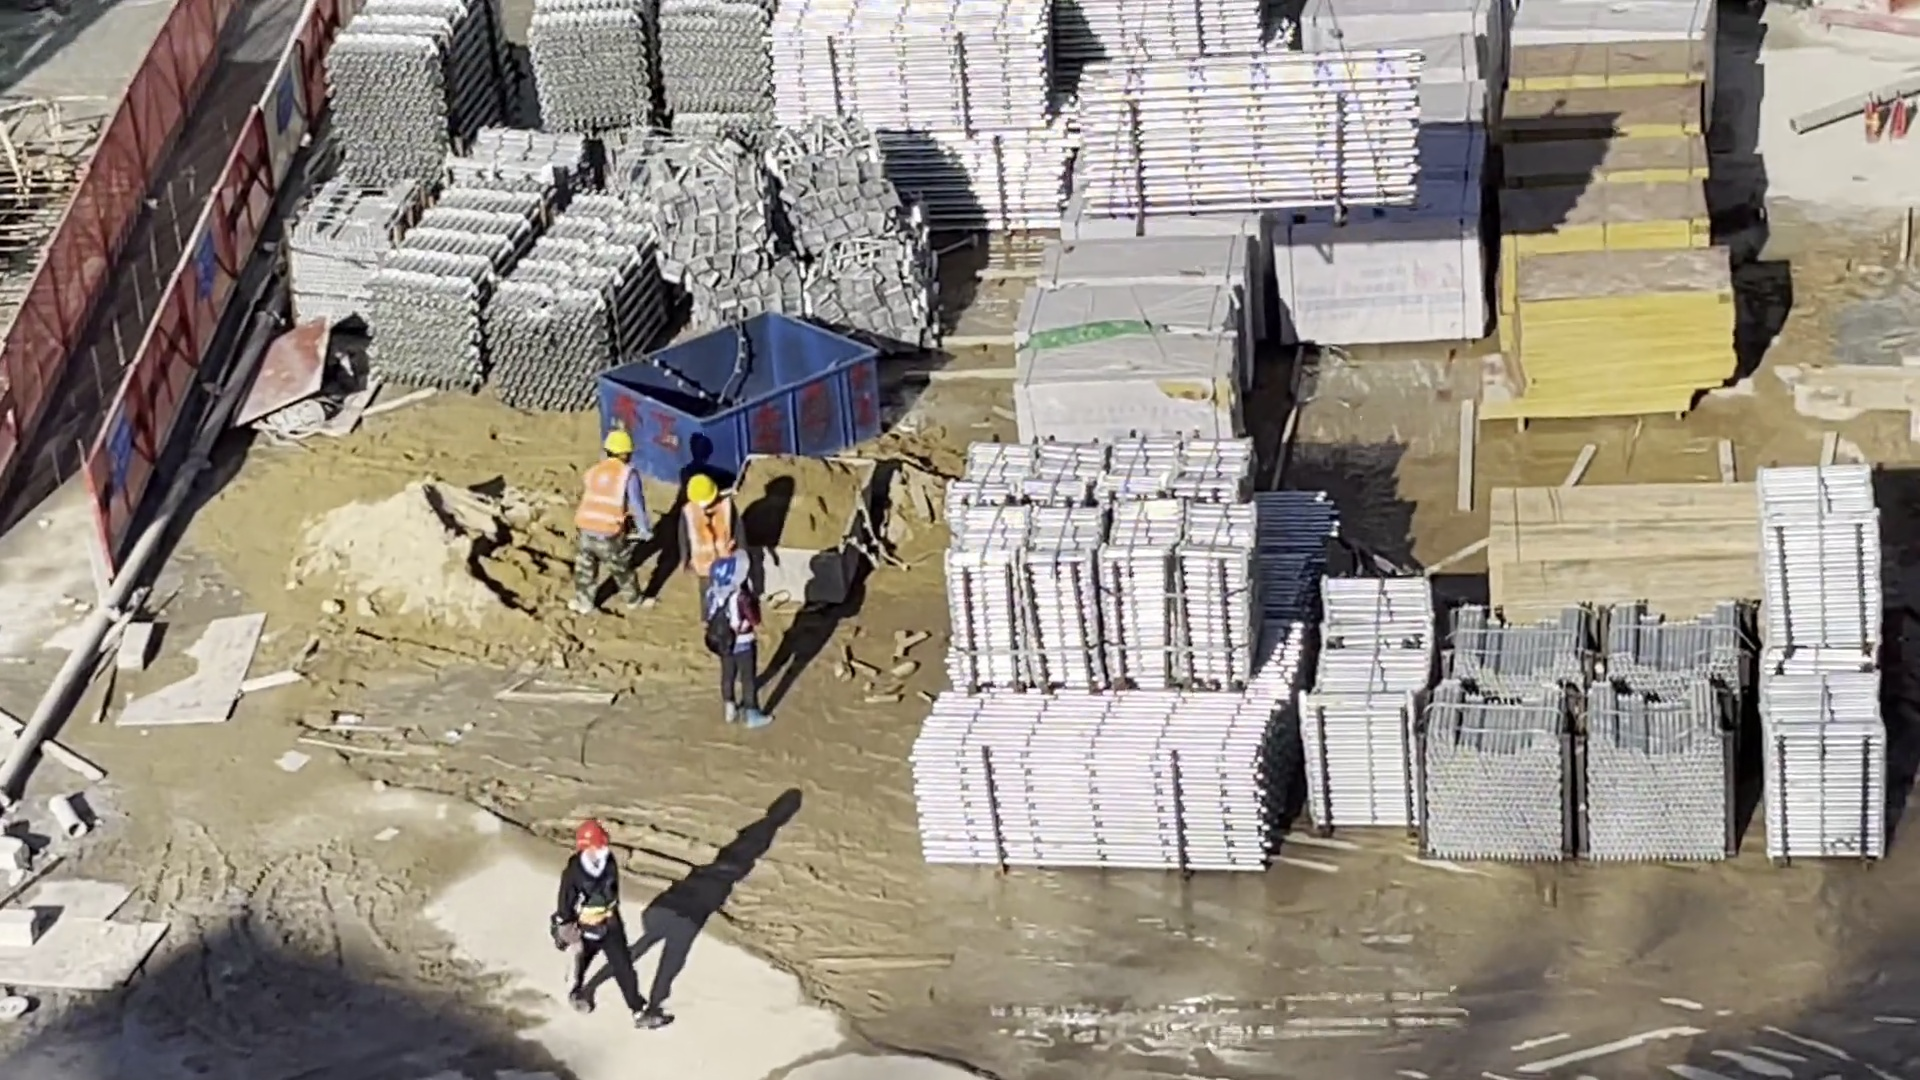board: (1504, 62, 1723, 413), (1502, 479, 1755, 597)
fence: (2, 3, 333, 551)
helmet: (575, 822, 608, 850), (689, 476, 716, 508), (605, 431, 633, 453), (712, 560, 737, 583)
hopper: (601, 307, 882, 487), (735, 454, 874, 606)
person: (561, 824, 670, 1027), (574, 432, 647, 608), (706, 562, 771, 722), (683, 479, 743, 600)
scaffold: (1424, 610, 1751, 868), (946, 442, 1258, 691), (763, 1, 1073, 214), (913, 695, 1288, 866), (371, 182, 661, 394), (1751, 465, 1889, 860), (1078, 61, 1424, 206), (1302, 566, 1429, 822), (531, 3, 774, 131), (338, 1, 497, 181)
slogan: (102, 408, 131, 488), (192, 230, 217, 307)
vest: (577, 462, 629, 531), (686, 508, 733, 572), (713, 601, 751, 650)
